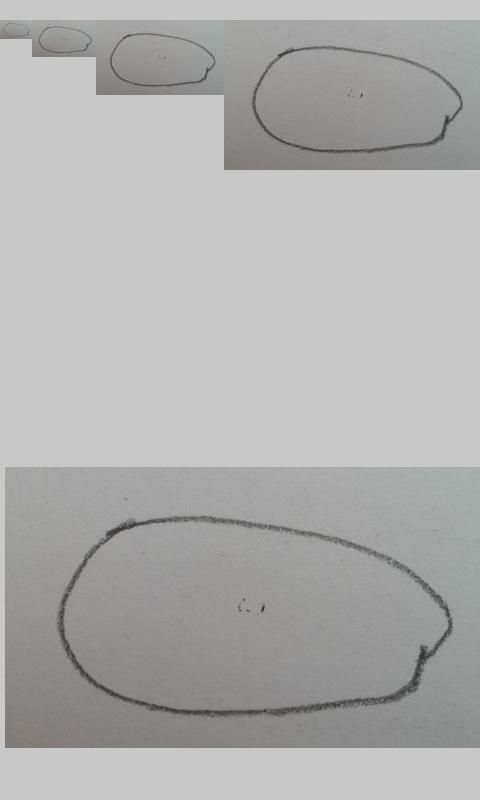chip: (55, 516, 454, 719), (251, 46, 464, 154), (109, 33, 217, 87), (38, 26, 93, 54), (2, 22, 30, 38)
